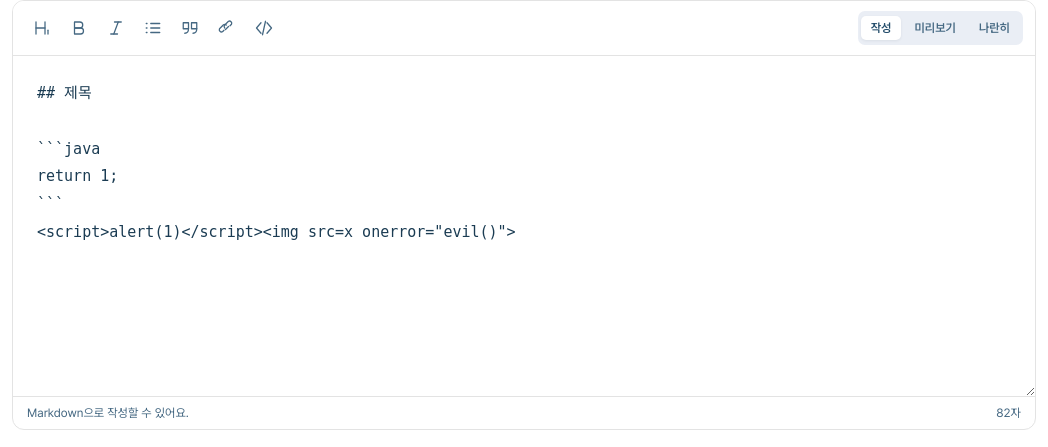
Test: 미리보기는 Markdown 제목과 코드를 보여주며 위험한 HTML은 실행 요소로 남기지 않는다
Step 1. Click the button with aria-label "미리보기" → (935, 28), box [904,16,966,40]
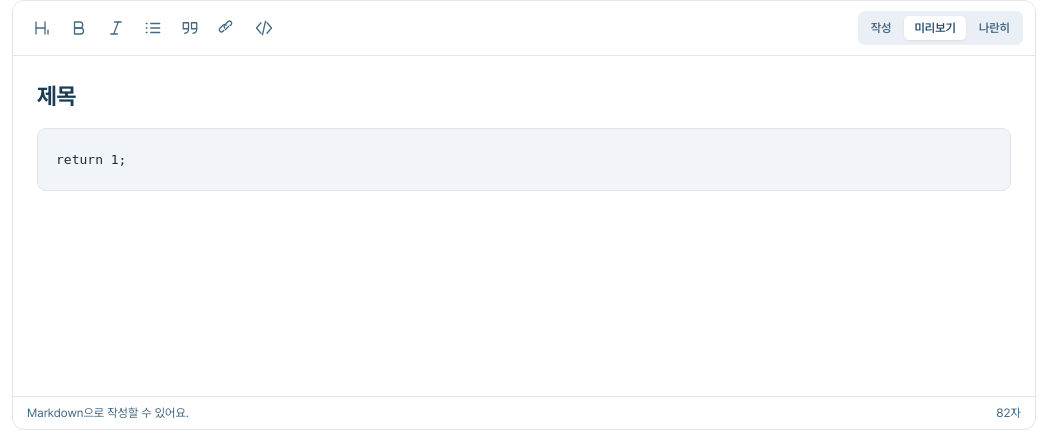
Check: the heading "제목" is shown, box [37,82,76,110]
Check: the text "return 1;" is shown, box [56,152,126,167]
